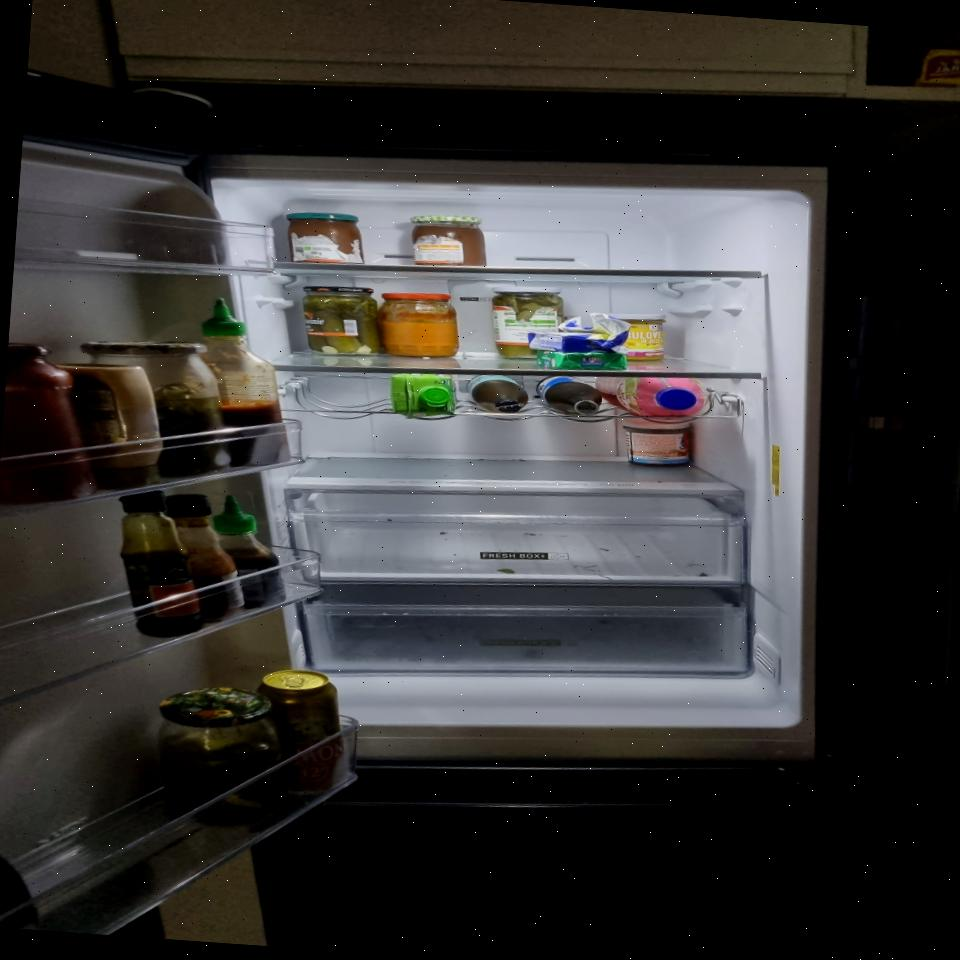Mantequilla: (526, 308, 631, 357), (537, 348, 628, 374)
